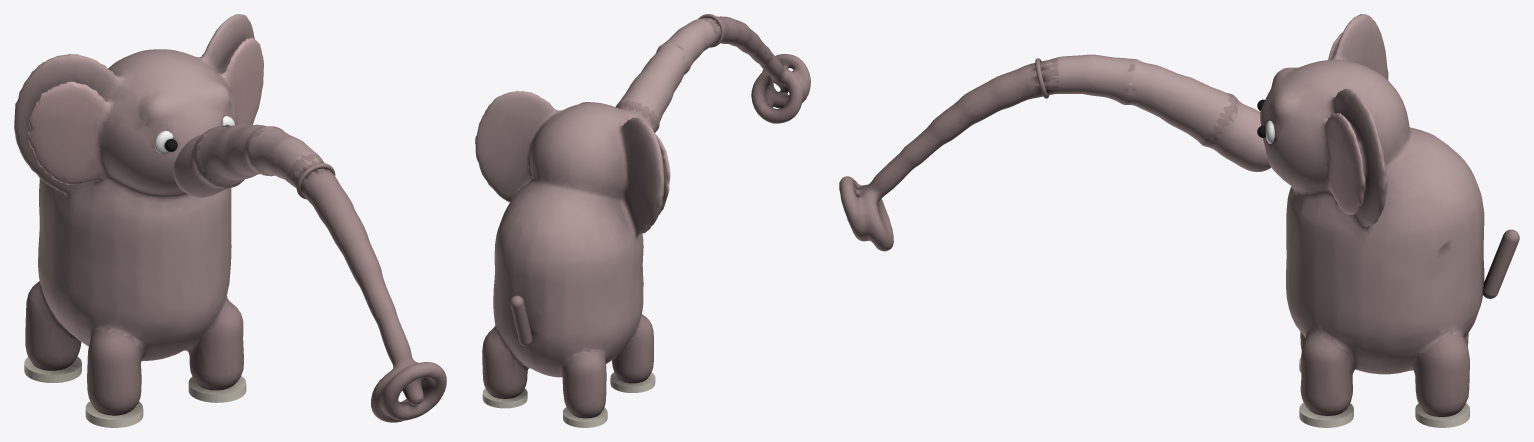
The model's file is jag-hamtar-pa-forskolan.glb.
3 views of the same model, side by side, from view 1: azimuth 30°, elevation 25°; view 2: azimuth 150°, elevation 25°; view 3: azimuth 270°, elevation 25° (orthographic). The views are drawn at different scales.
Visible parts, largest first — view 1: elefanta__r0, tromba__r0, elefanta__r8, elefanta__r6, elefanta__r5; view 2: elefanta__r0, tromba__r0, elefanta__r9, elefanta__r6, elefanta__r5, elefanta__r7; view 3: elefanta__r0, tromba__r0, elefanta__r9, elefanta__r8, elefanta__r7.
Part boxes in pixels (x1,y1,x2,y2): elefanta__r0: [14, 14, 263, 415]; tromba__r0: [173, 124, 446, 422]; elefanta__r8: [188, 376, 246, 402]; elefanta__r6: [85, 401, 143, 427]; elefanta__r5: [24, 356, 81, 382]; elefanta__r0: [475, 90, 670, 418]; tromba__r0: [615, 16, 810, 132]; elefanta__r9: [510, 295, 532, 345]; elefanta__r6: [610, 372, 655, 392]; elefanta__r5: [563, 407, 607, 427]; elefanta__r7: [482, 388, 527, 408]; elefanta__r0: [1260, 14, 1484, 416]; tromba__r0: [839, 54, 1270, 251]; elefanta__r9: [1483, 229, 1519, 298]; elefanta__r8: [1299, 402, 1353, 427]; elefanta__r7: [1415, 403, 1469, 427].
Size of the model in its own units: 1.55 by 2.19 by 3.99.
